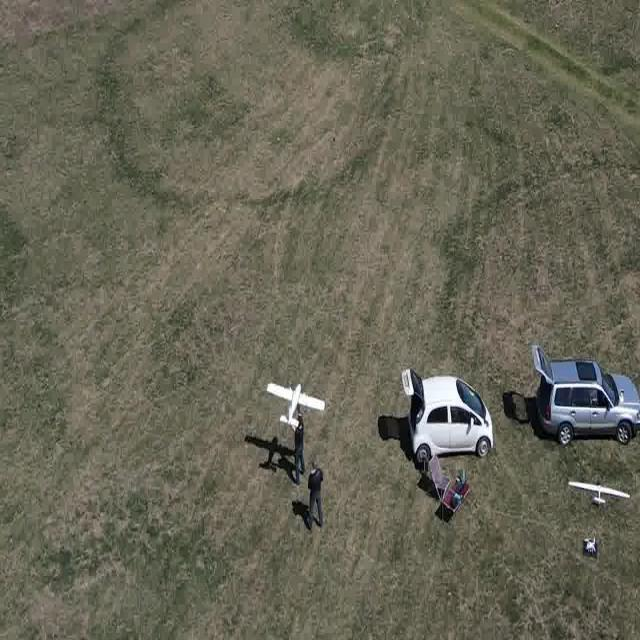iha: (266, 379, 326, 433)
